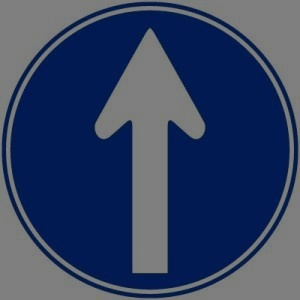Direction_sign: (5, 1, 298, 297)
